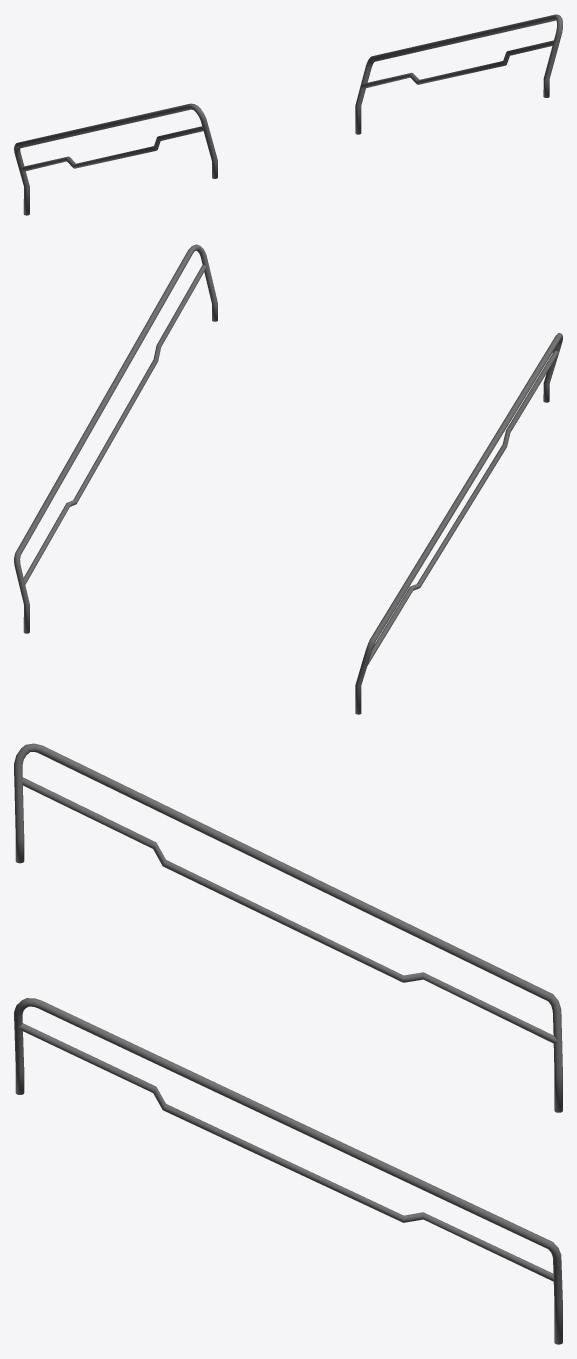
File: sf_stair_rails_wide.glb
The picture shows the model from 3 angles, top to bottom: view 1: azimuth 30°, elevation 25°; view 2: azimuth 150°, elevation 25°; view 3: azimuth 270°, elevation 25°; orthographic projection. The views are drawn at different scales.
Visible parts, largest first — view 1: Platform_Rails_4Wide; view 2: Platform_Rails_4Wide; view 3: Platform_Rails_4Wide.
Boxes of the visible parts, left/top/right/bottom form: Platform_Rails_4Wide: left=14, top=14, right=562, bottom=215; Platform_Rails_4Wide: left=14, top=244, right=562, bottom=714; Platform_Rails_4Wide: left=14, top=743, right=562, bottom=1344.
Size of the model in its own units: 4.25 by 2.72 by 3.8.
1 material, 1 textured.
